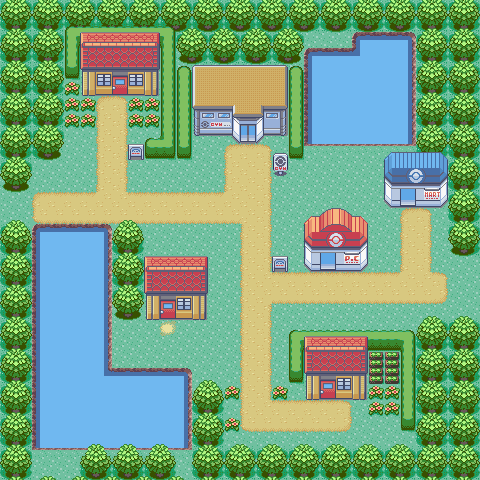gym: (189, 63, 291, 148)
normal_house: (78, 30, 164, 99), (142, 253, 211, 325), (300, 334, 370, 403)
pokemart: (380, 149, 450, 211)
pokemon_center: (301, 205, 372, 276)
